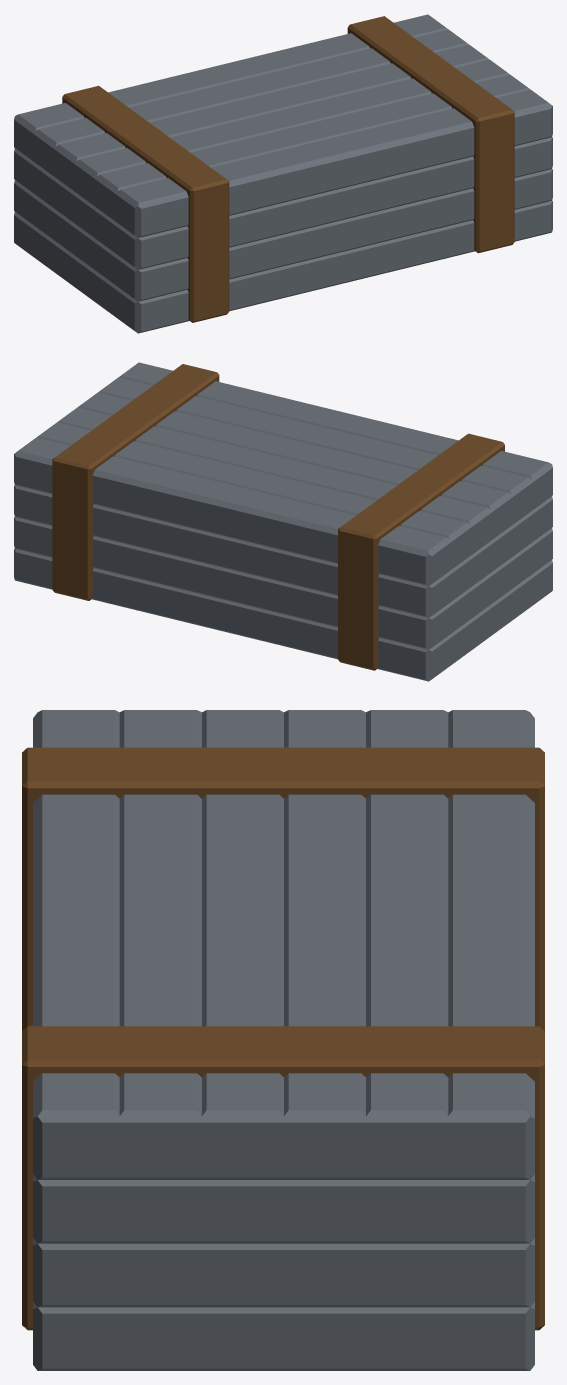
The model's file is cratebox_c.gltf.
3 views of the same model, one above another, from view 1: azimuth 30°, elevation 25°; view 2: azimuth 150°, elevation 25°; view 3: azimuth 270°, elevation 25° (orthographic). The views are drawn at different scales.
Visible parts, largest first — view 1: cratebox_c001; view 2: cratebox_c001; view 3: cratebox_c001.
Boxes of the visible parts, <box> form: cratebox_c001: <box>14,14,552,333</box>; cratebox_c001: <box>14,362,552,681</box>; cratebox_c001: <box>22,710,544,1370</box>.
Size of the model in its own units: 1.02 by 0.3153 by 0.5524.
Materials: 1 (1 with a texture image).
